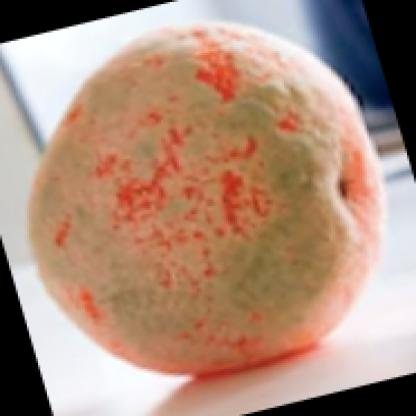rotten_orange: (23, 13, 386, 378)
